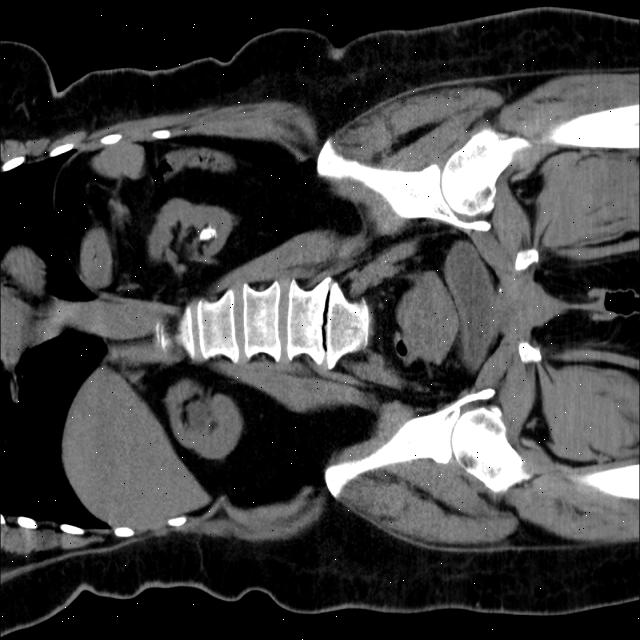kidneystone: (199, 226, 216, 240)
